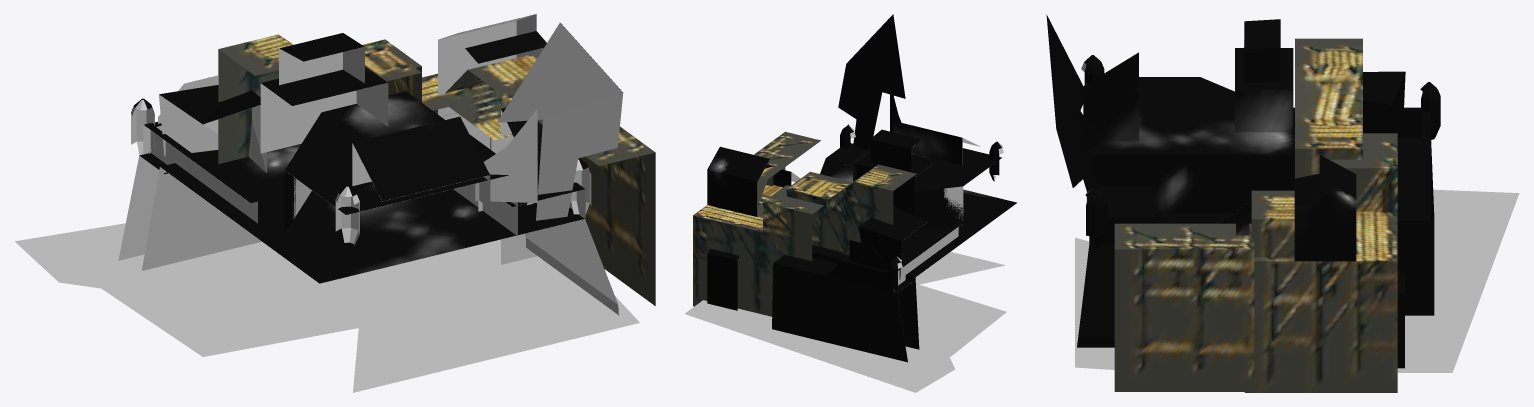
File: T_Depot_01.fbx
The picture shows the model from 3 angles, left to right: view 1: azimuth 30°, elevation 25°; view 2: azimuth 150°, elevation 25°; view 3: azimuth 270°, elevation 25°; orthographic projection. The views are drawn at different scales.
Parts seen in each view (by area): view 1: T_Depot_01, FX_Territory_NightGlow, T_BuildForm_02 (4), T_BuildForm_03 (1), T_BuildForm_01; view 2: FX_Territory_NightGlow, T_Depot_01, T_BuildForm_01, T_BuildForm_03 (1), T_BuildForm_02 (4); view 3: FX_Territory_NightGlow, T_BuildForm_01, T_BuildForm_02 (4), T_Depot_01, T_BuildForm_03 (1).
Boxes of the visible parts, x1=… form: T_Depot_01: x1=15, y1=14, x2=639, y2=392; FX_Territory_NightGlow: x1=134, y1=14, x2=620, y2=314; T_BuildForm_02 (4): x1=537, y1=119, x2=655, y2=305; T_BuildForm_03 (1): x1=218, y1=34, x2=421, y2=163; T_BuildForm_01: x1=362, y1=39, x2=536, y2=140; FX_Territory_NightGlow: x1=707, y1=14, x2=1016, y2=362; T_Depot_01: x1=685, y1=17, x2=1006, y2=392; T_BuildForm_01: x1=693, y1=159, x2=823, y2=316; T_BuildForm_03 (1): x1=786, y1=164, x2=916, y2=253; T_BuildForm_02 (4): x1=754, y1=131, x2=820, y2=186; FX_Territory_NightGlow: x1=1046, y1=15, x2=1440, y2=368; T_BuildForm_01: x1=1244, y1=133, x2=1397, y2=392; T_BuildForm_02 (4): x1=1114, y1=223, x2=1254, y2=391; T_Depot_01: x1=1046, y1=17, x2=1519, y2=372; T_BuildForm_03 (1): x1=1295, y1=38, x2=1362, y2=178.
Size of the model in its own units: 7.64 by 5.9 by 7.83.
